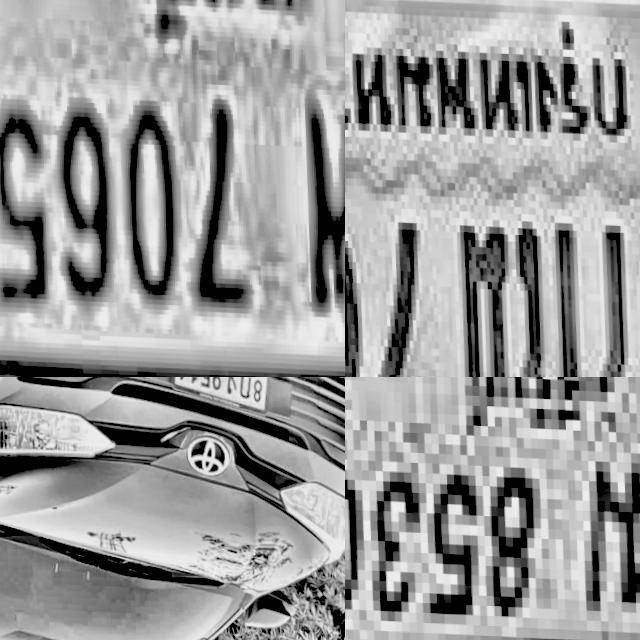license-plate: (0, 0, 345, 377), (345, 0, 640, 377), (345, 377, 640, 640), (158, 377, 274, 416)
